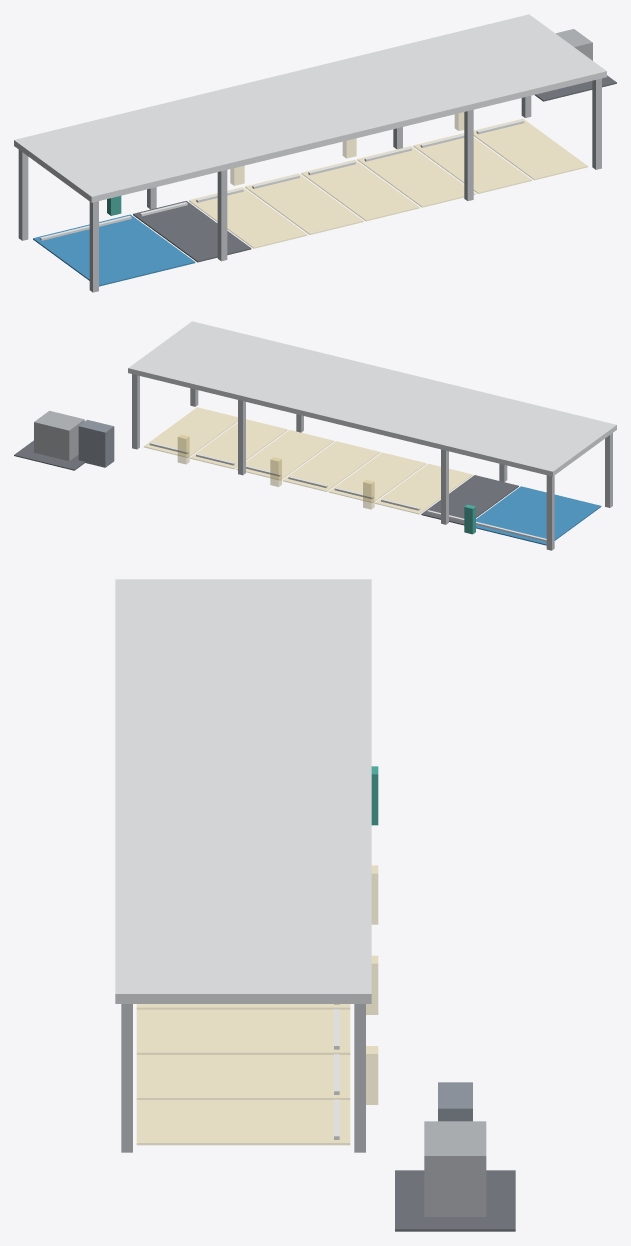
Rendered from FFX002.glb.
3 renders of one model, top to bottom at view 1: azimuth 30°, elevation 25°; view 2: azimuth 150°, elevation 25°; view 3: azimuth 270°, elevation 25°, orthographic. The views are drawn at different scales.
Parts seen in each view (by area): view 1: FFX002_evse_build; view 2: FFX002_evse_build; view 3: FFX002_evse_build.
Boxes of the visible parts, x1,y1,x2,y2 form: FFX002_evse_build: (14, 14, 616, 292); FFX002_evse_build: (14, 321, 616, 550); FFX002_evse_build: (115, 579, 515, 1231).
Bounding box in the file's own units: 29.9 × 4.58 × 10.3.
